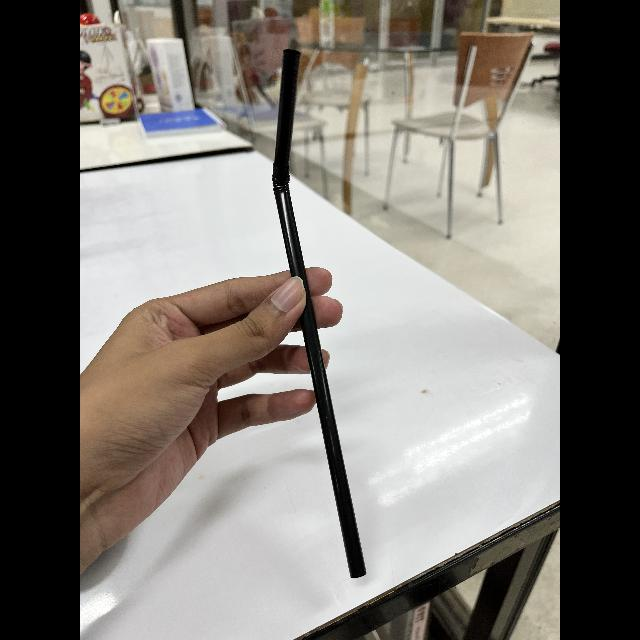straw: (270, 37, 378, 573)
